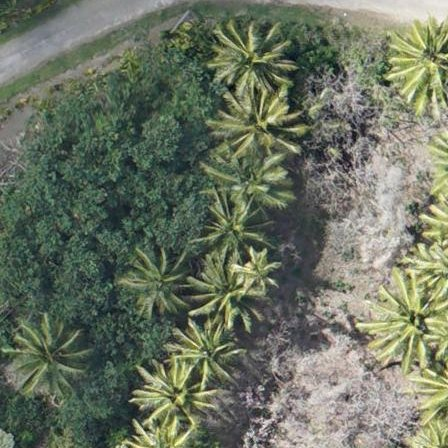palm_tree: (368, 273, 448, 363), (381, 10, 448, 116), (207, 20, 286, 103), (120, 237, 198, 320), (5, 317, 81, 399), (211, 98, 291, 167), (206, 151, 286, 214), (188, 251, 243, 329), (142, 357, 205, 424), (199, 199, 268, 259), (232, 255, 286, 299)
